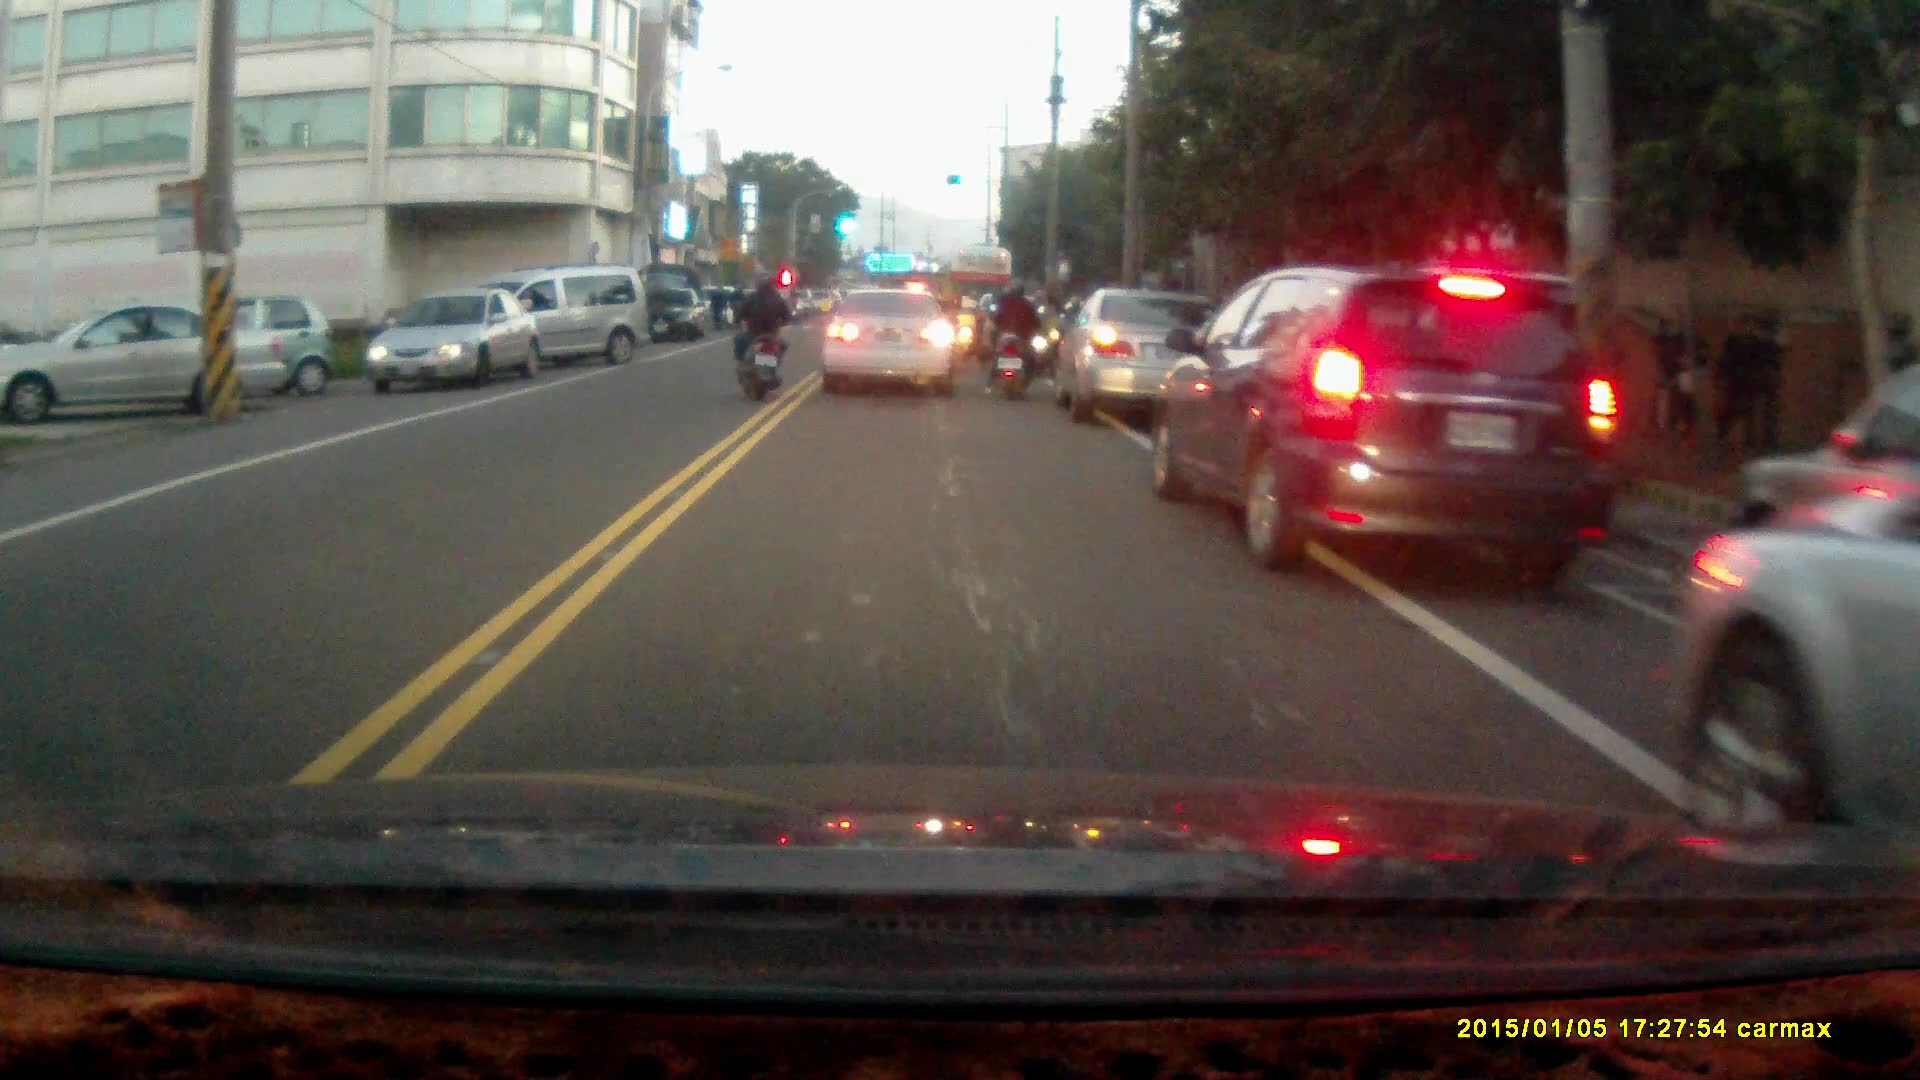pedestrian: (1711, 307, 1765, 458), (1663, 305, 1713, 454)
rider: (984, 271, 1046, 402), (730, 275, 791, 400)
vehicle: (1148, 262, 1626, 573), (1668, 455, 1920, 880), (5, 303, 273, 421), (1049, 284, 1227, 418), (109, 295, 332, 401), (460, 265, 651, 376), (368, 288, 539, 394), (819, 287, 960, 398), (642, 288, 702, 346)
